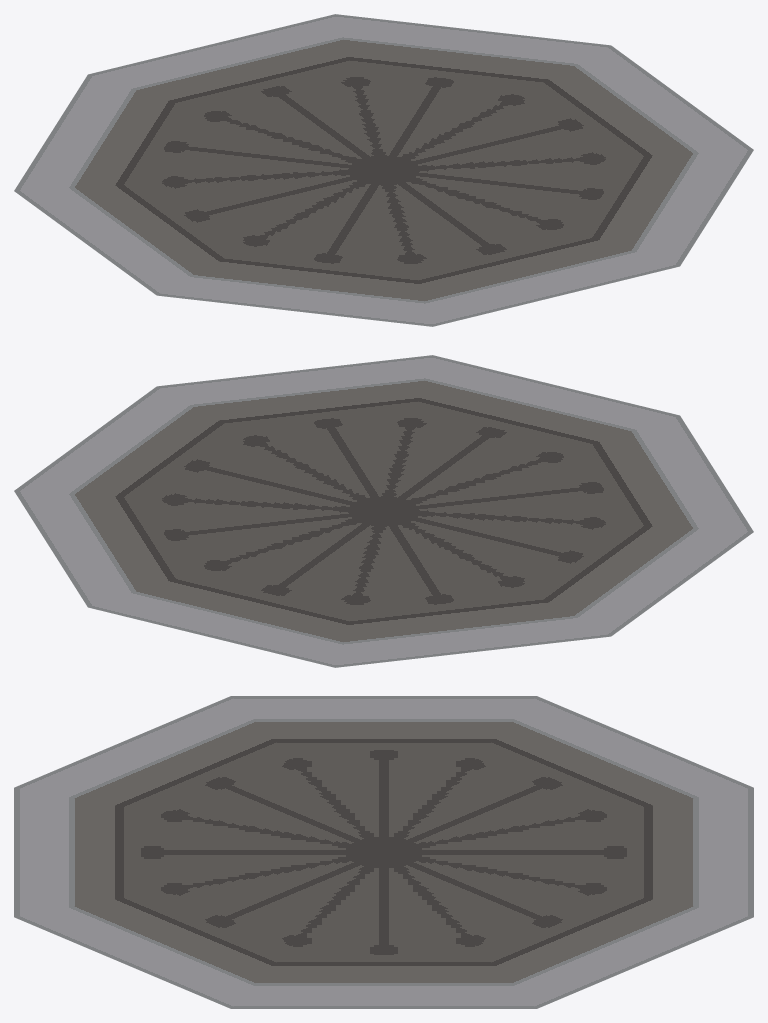
Rendered from kd_stage_135b75_4_86.glb.
The picture shows the model from 3 angles, top to bottom: view 1: azimuth 30°, elevation 25°; view 2: azimuth 150°, elevation 25°; view 3: azimuth 270°, elevation 25°; orthographic projection. The views are drawn at different scales.
Visible parts, largest first — view 1: kd_stage_135b75_4_86; view 2: kd_stage_135b75_4_86; view 3: kd_stage_135b75_4_86.
Part boxes in pixels (x1=…): kd_stage_135b75_4_86: x1=14, y1=14, x2=753, y2=326; kd_stage_135b75_4_86: x1=14, y1=355, x2=753, y2=667; kd_stage_135b75_4_86: x1=14, y1=696, x2=753, y2=1008.
Bounding box in the file's own units: 0.15 × 1.56e-07 × 0.15.
1 material, 1 textured.
